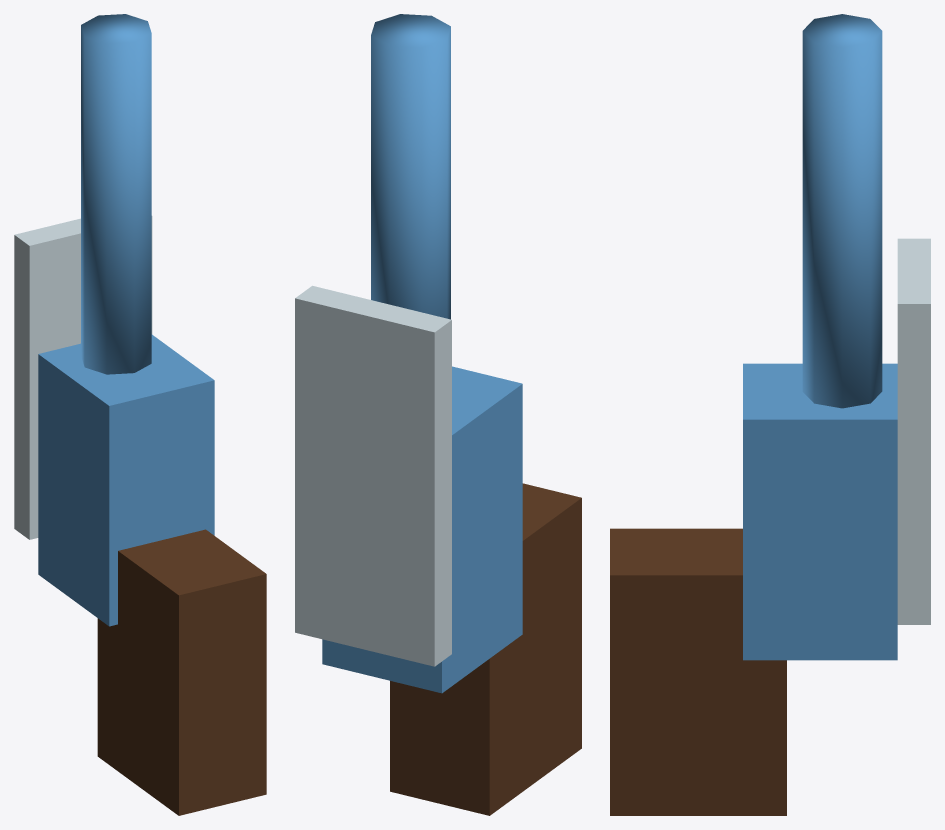
File: bubble_gun.glb
3 views of the same model, side by side, from view 1: azimuth 30°, elevation 25°; view 2: azimuth 150°, elevation 25°; view 3: azimuth 270°, elevation 25° (orthographic). The views are drawn at different scales.
Parts seen in each view (by area): view 1: bubble_gun_v0; view 2: bubble_gun_v0; view 3: bubble_gun_v0.
Boxes of the visible parts, x1,y1,x2,y2 form: bubble_gun_v0: (14, 14, 266, 815); bubble_gun_v0: (295, 14, 581, 815); bubble_gun_v0: (610, 14, 930, 815).
Bounding box in the file's own units: 0.07 × 0.38 × 0.145.
